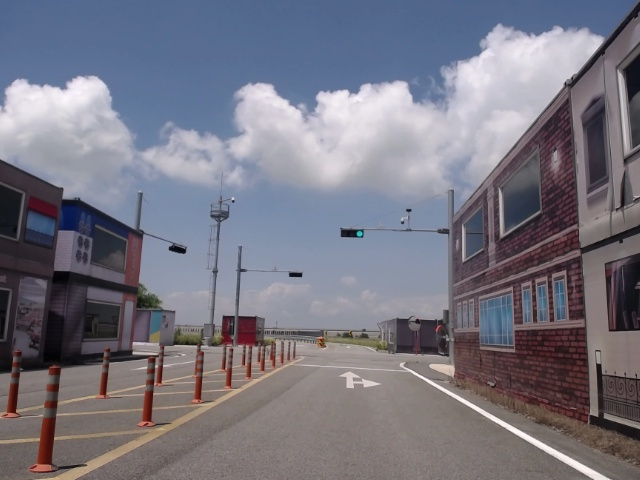green_3: (341, 229, 363, 237)
